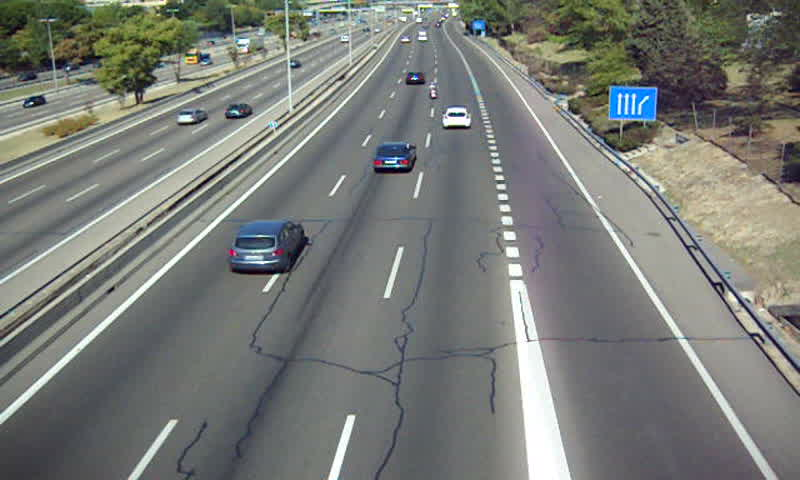car: (230, 221, 303, 273), (374, 141, 416, 173), (442, 106, 472, 130), (403, 70, 426, 86)
motorcycle: (428, 82, 439, 100)
